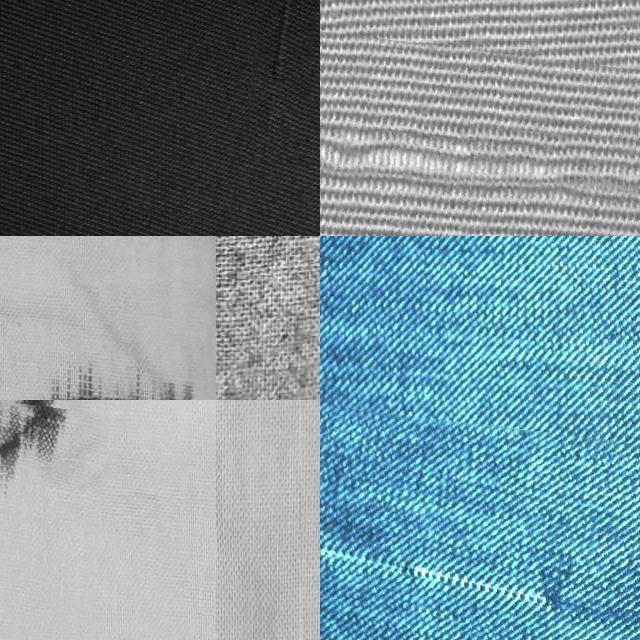Hole: (0, 393, 104, 623), (2, 358, 215, 400)
Thread_other: (320, 415, 640, 640), (320, 35, 640, 236), (247, 0, 315, 166)
